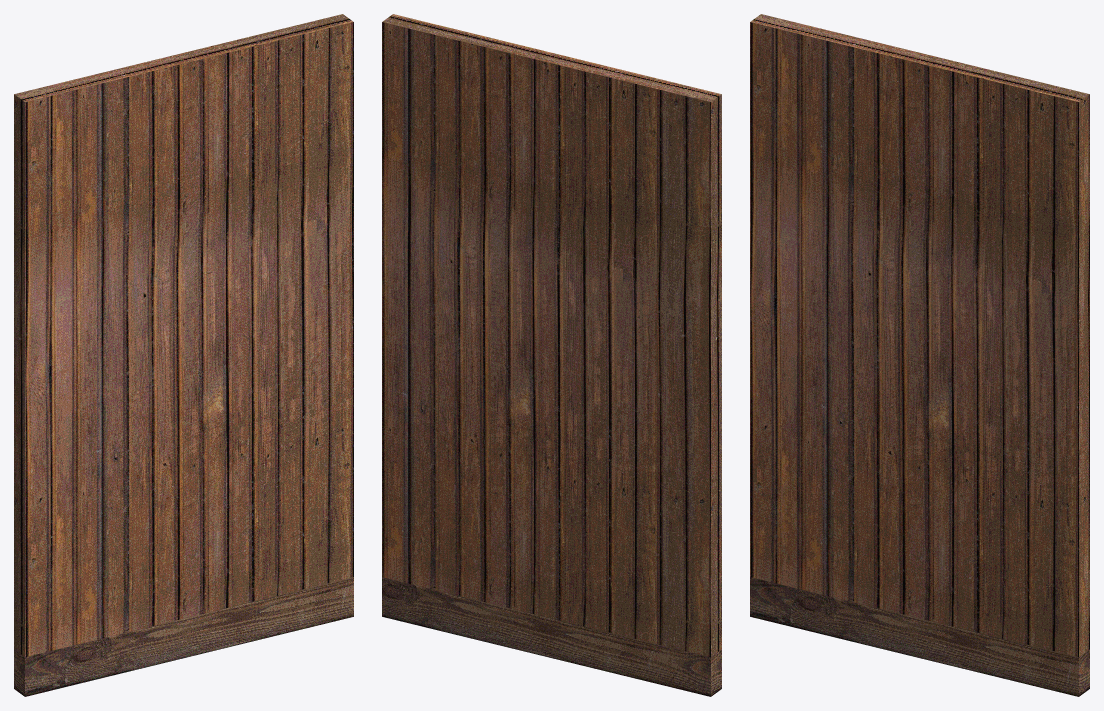
The model's file is wall-int-filler-1.glb.
The picture shows the model from 3 angles, left to right: view 1: azimuth 30°, elevation 25°; view 2: azimuth 150°, elevation 25°; view 3: azimuth 330°, elevation 25°; orthographic projection.
Parts seen in each view (by area): view 1: wall-int-filler-1.001; view 2: wall-int-filler-1.001; view 3: wall-int-filler-1.001.
Boxes of the visible parts, x1,y1,x2,y2 form: wall-int-filler-1.001: (14,14,353,696); wall-int-filler-1.001: (382,14,721,696); wall-int-filler-1.001: (750,14,1089,696).
Bounding box in the file's own units: 1.74 × 3 × 0.1.
Materials: 2 (2 with a texture image).
